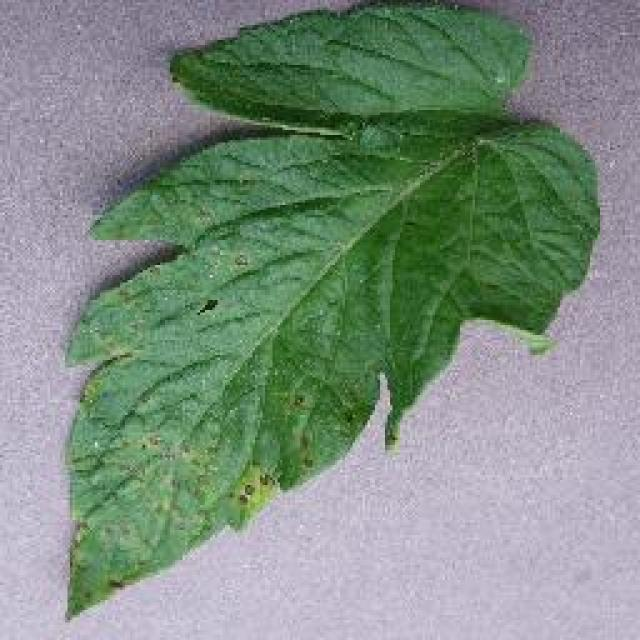Tomato___Septoria_leaf_spot: (68, 0, 598, 612)
